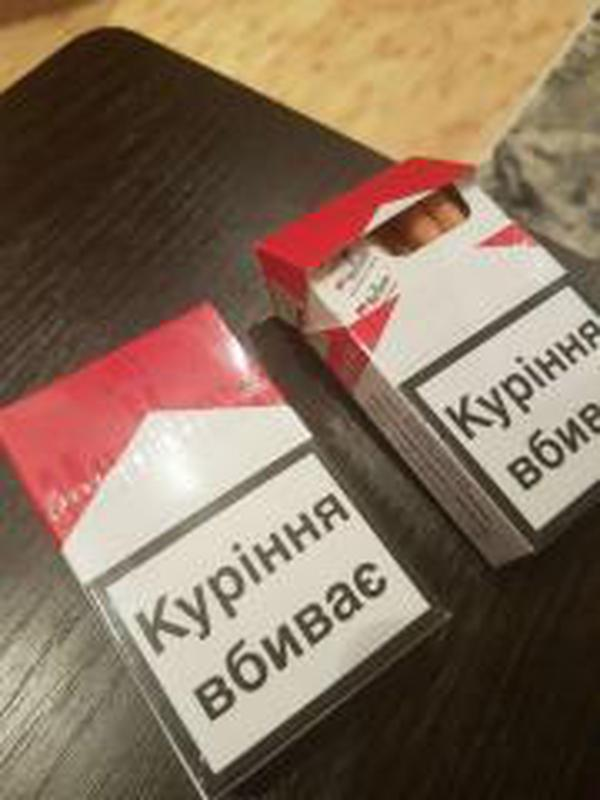marlboro_red: (16, 318, 340, 729), (298, 160, 594, 502)
